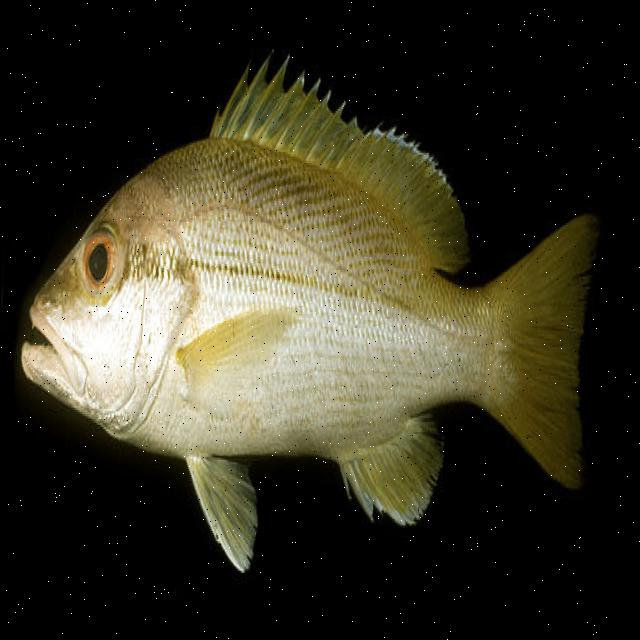ikan: (11, 36, 606, 586)
